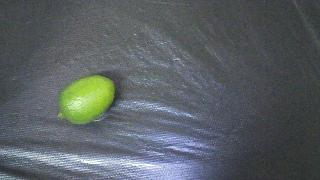LOCAL: (58, 75, 115, 124)
